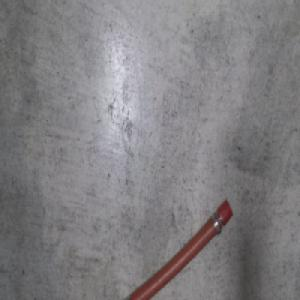Hose: (109, 195, 233, 300)
